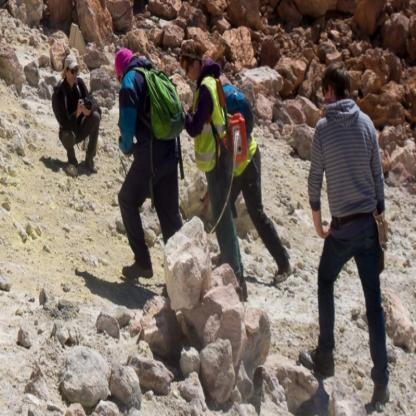person: (295, 62, 400, 403), (173, 26, 264, 317), (108, 35, 187, 286), (50, 36, 100, 184)
